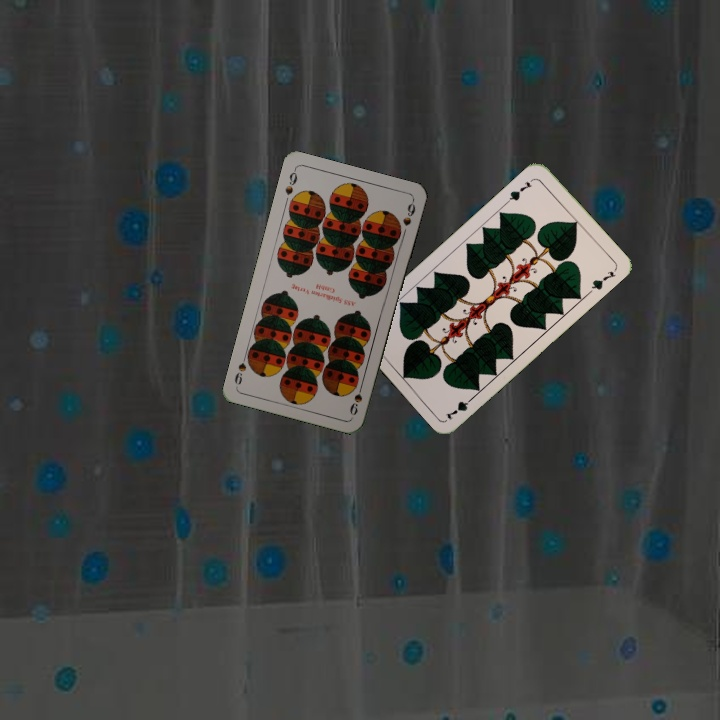G7: (441, 391, 478, 423), (503, 175, 536, 206)
S9: (346, 378, 366, 418), (281, 165, 300, 198)
